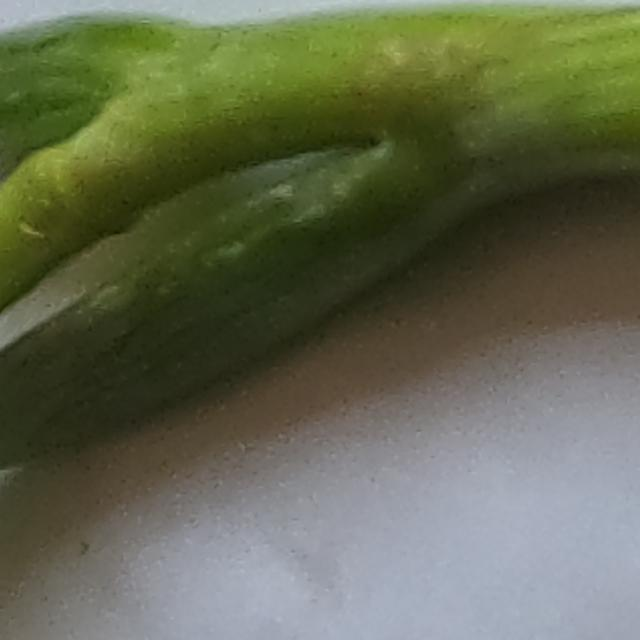green_onion: (0, 1, 640, 487)
